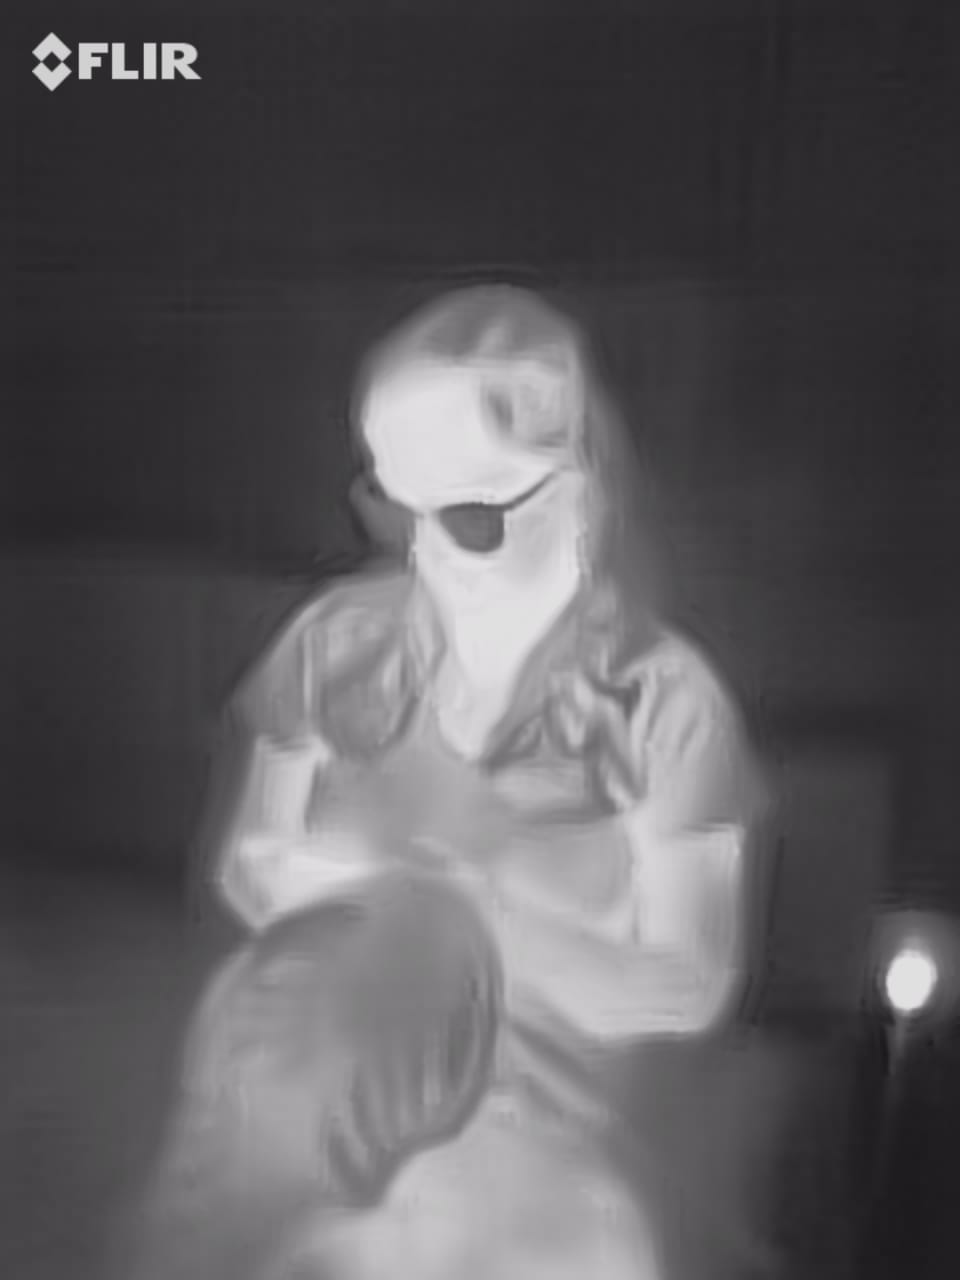head: (337, 256, 614, 646)
